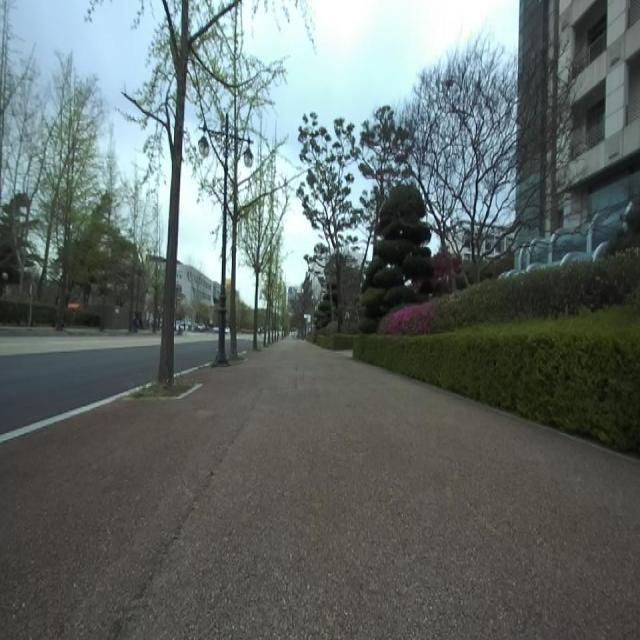sidewalk: (0, 340, 640, 639), (0, 388, 141, 442)
